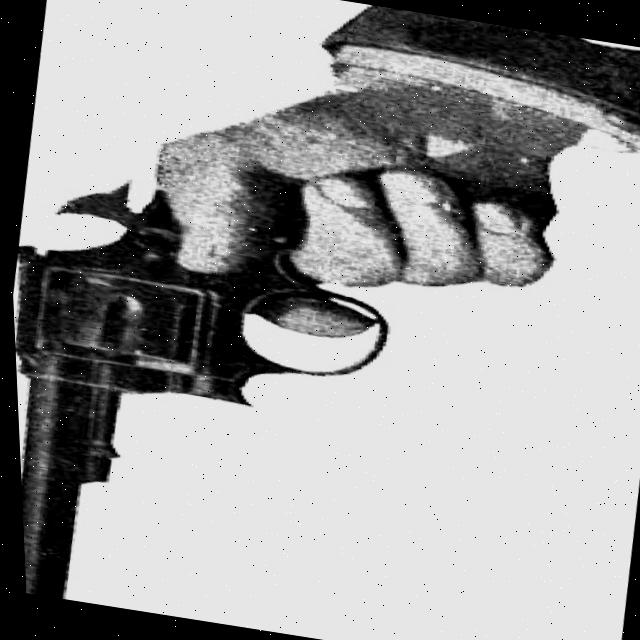pistol: (6, 162, 414, 640)
